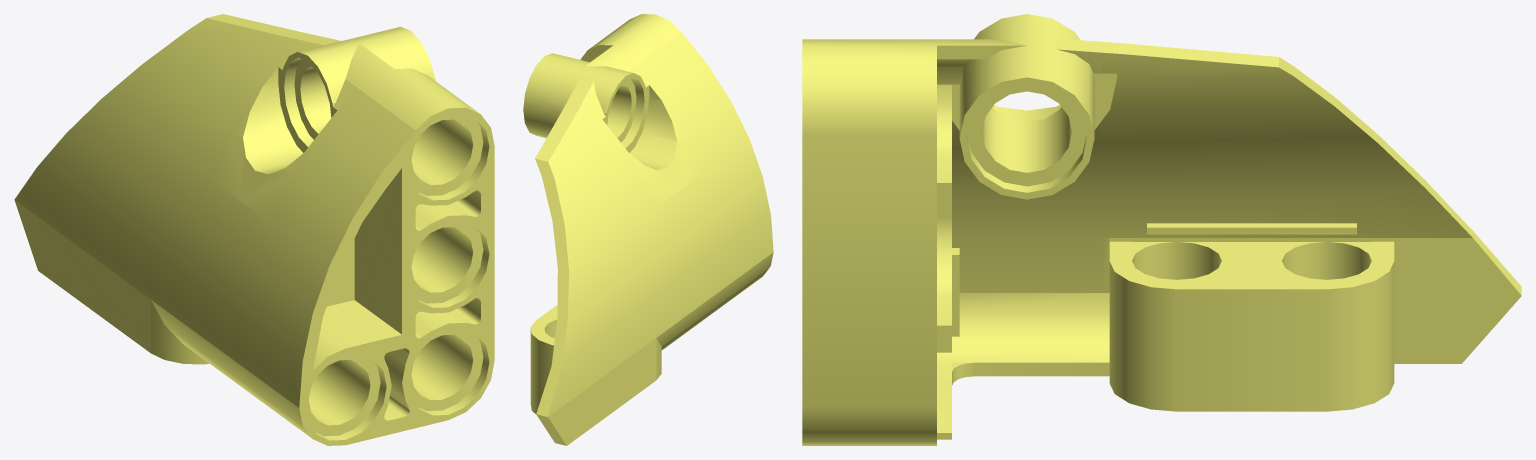
3 views of the same model, side by side, from view 1: azimuth 30°, elevation 25°; view 2: azimuth 150°, elevation 25°; view 3: azimuth 270°, elevation 25° (orthographic). The views are drawn at different scales.
Parts seen in each view (by area): view 1: 87080.dat; view 2: 87080.dat; view 3: 87080.dat.
Part boxes in pixels (x1,y1,x2,y2): 87080.dat: (14, 14, 494, 445); 87080.dat: (523, 14, 773, 445); 87080.dat: (802, 14, 1521, 445).
Bounding box in the file's own units: 0.0156 × 0.0236 × 0.0384.
